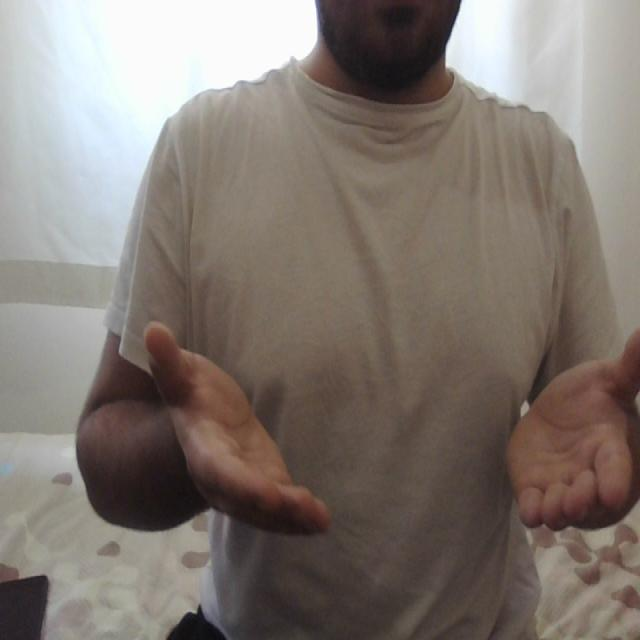Evet: (140, 314, 640, 540)
